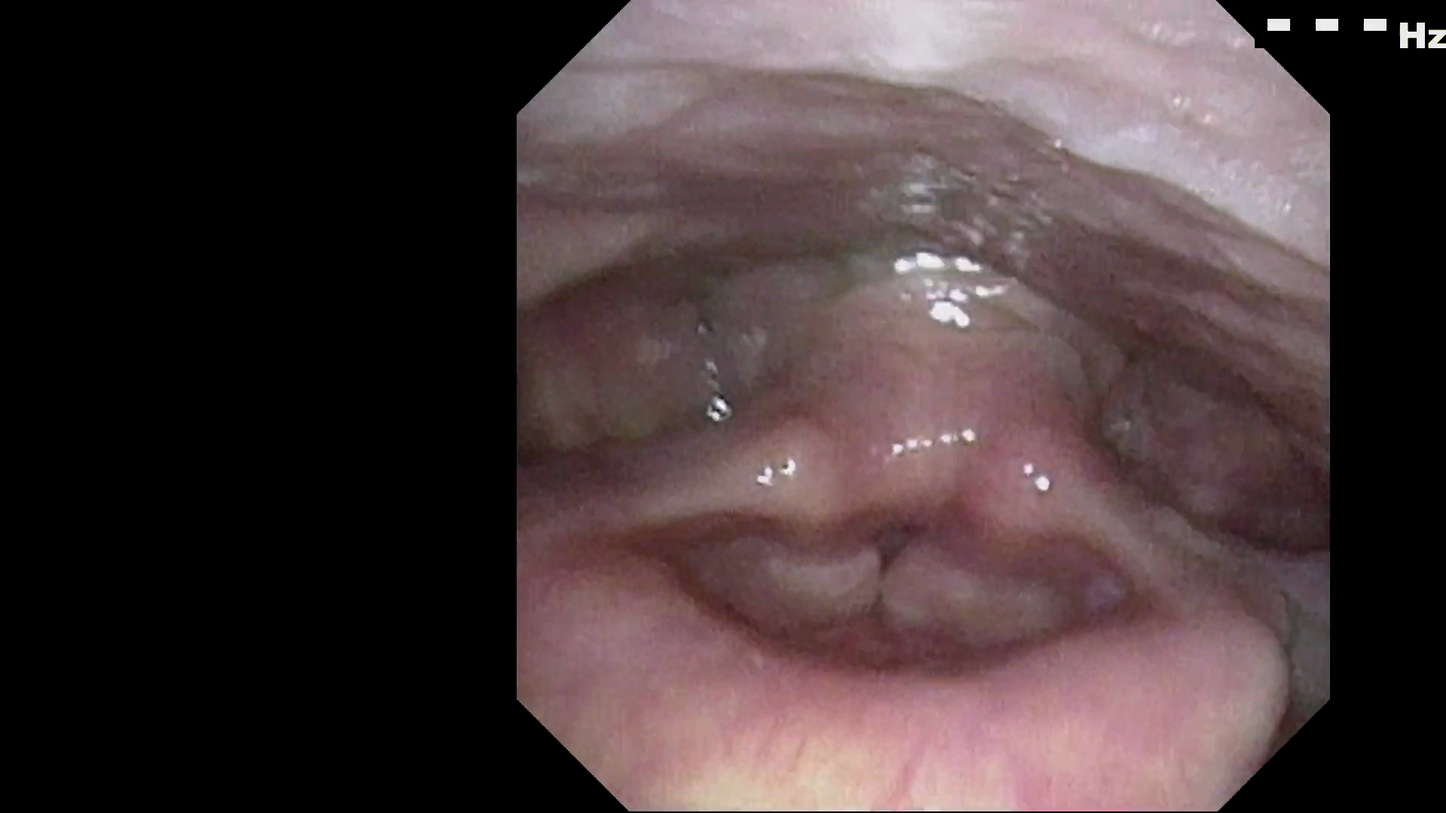epiglottis: (523, 512, 1283, 778)
trachea: (823, 449, 967, 618)
